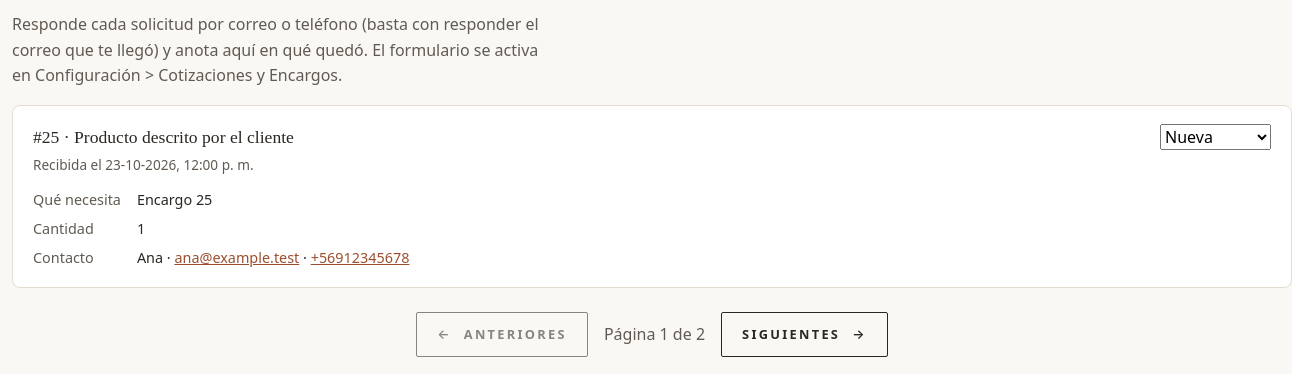
GestorCotizaciones › pide las cotizaciones por página y deja avanzar y volver
Expected: the text "Encargo 25" is shown, x1=137 y1=190 x2=212 y2=209
Expected: the text "Página 1 de 2" is shown, x1=604 y1=322 x2=705 y2=348
Step 1. Click the button "Siguientes →" → (804, 335), box x1=721 y1=312 x2=888 y2=357
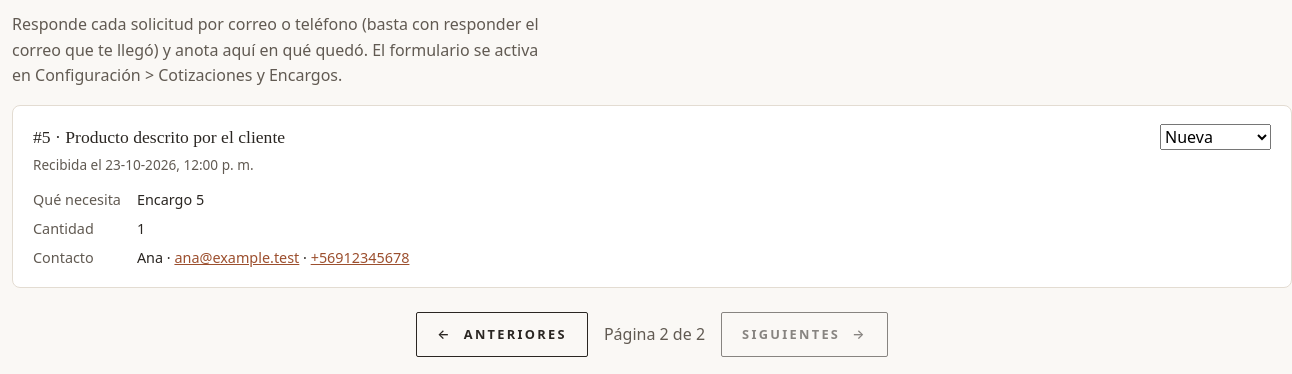
Expected: the text "Encargo 5" is shown, x1=137 y1=190 x2=204 y2=209
Expected: the text "Página 2 de 2" is shown, x1=604 y1=322 x2=705 y2=348
Expected: the button "Siguientes →" is disabled, x1=721 y1=312 x2=888 y2=357
